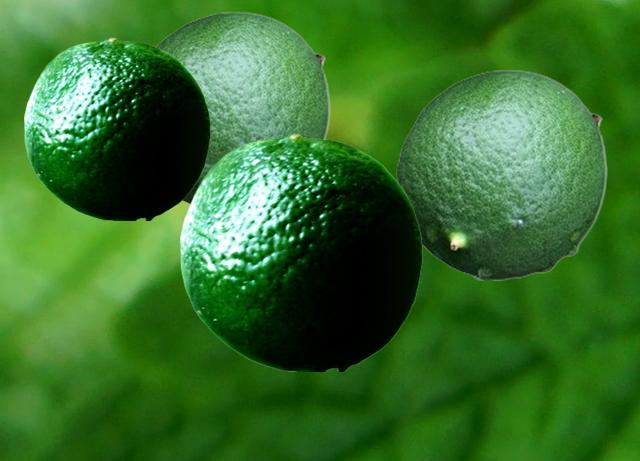calamansi: (180, 133, 421, 370), (396, 69, 606, 279), (154, 11, 329, 205), (24, 37, 209, 219)
